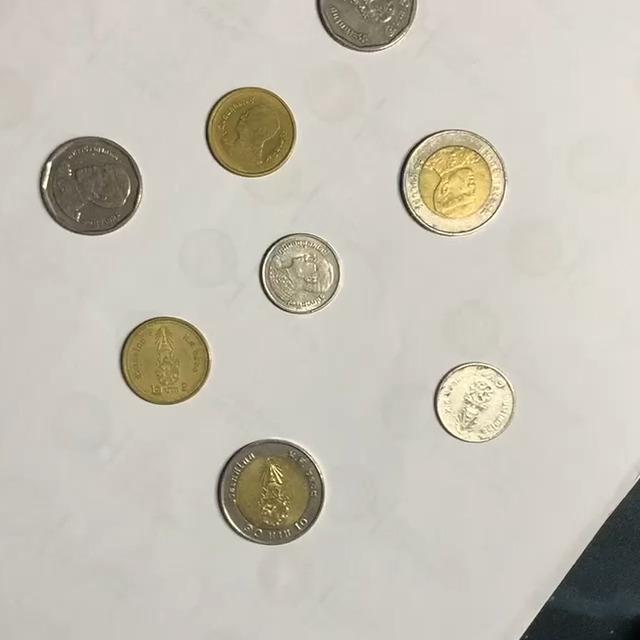1-baht: (434, 362, 519, 444), (260, 233, 344, 315)
10-baht: (402, 129, 508, 235), (219, 440, 326, 545)
2-baht: (121, 317, 213, 407), (207, 87, 298, 177)
5-baht: (40, 136, 144, 236), (309, 0, 419, 57)
